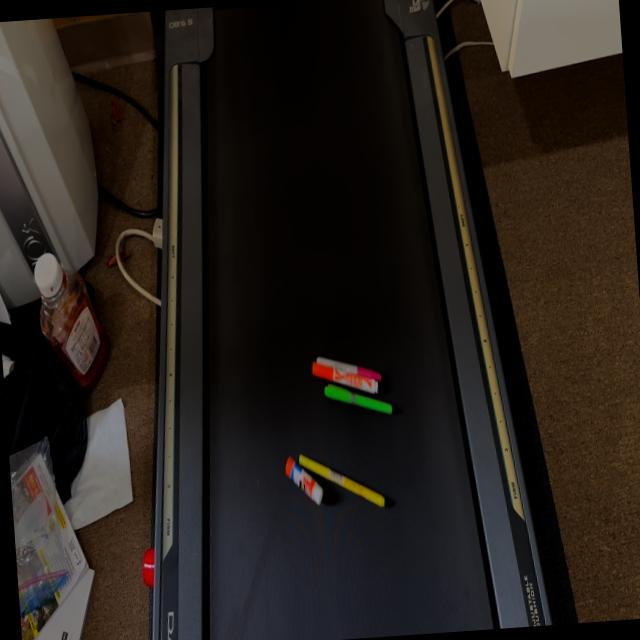Trash: (282, 443, 388, 523), (308, 342, 394, 426)
